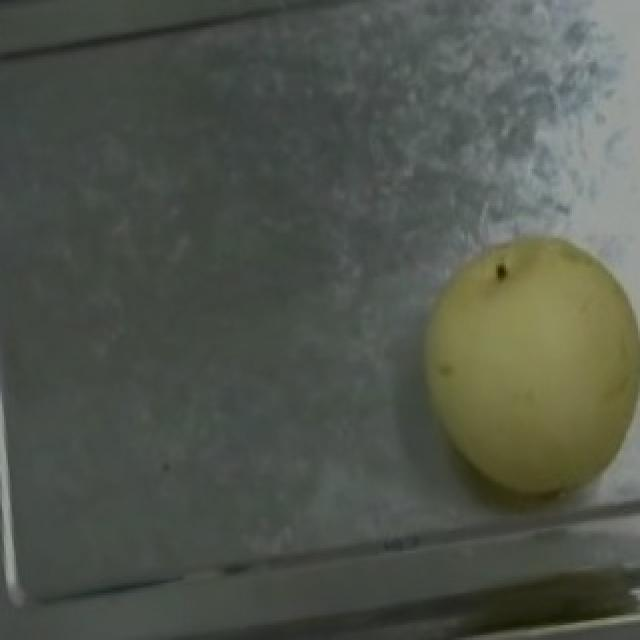Fruit: (392, 211, 640, 516)
